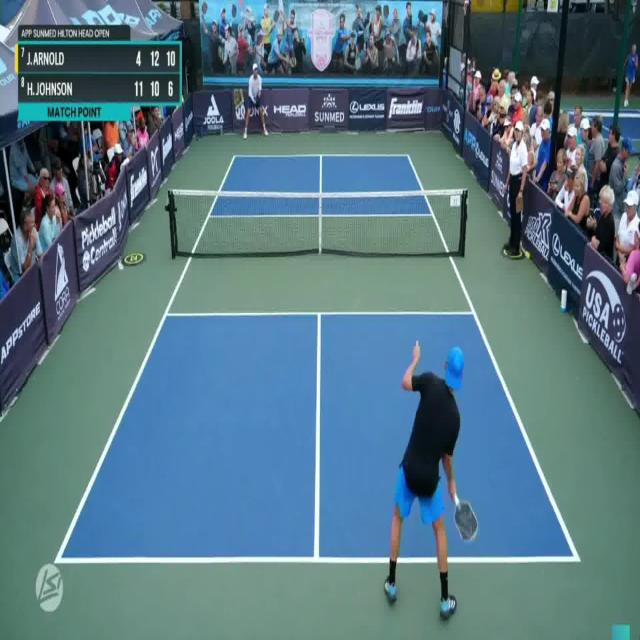Court: (59, 156, 579, 563)
